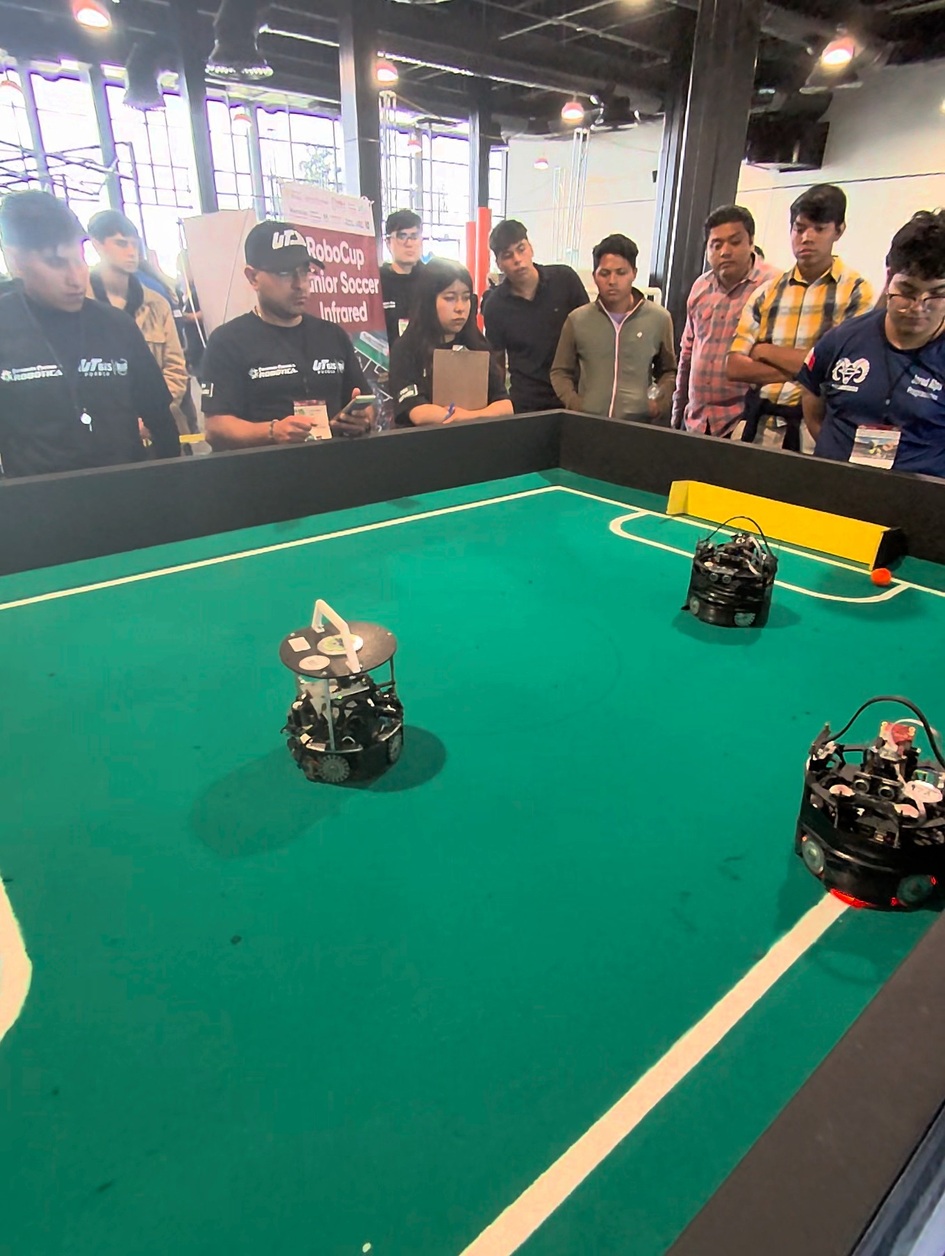Robot: (794, 689, 941, 930), (274, 590, 415, 804), (684, 512, 782, 641)
pelota: (866, 565, 896, 589)
